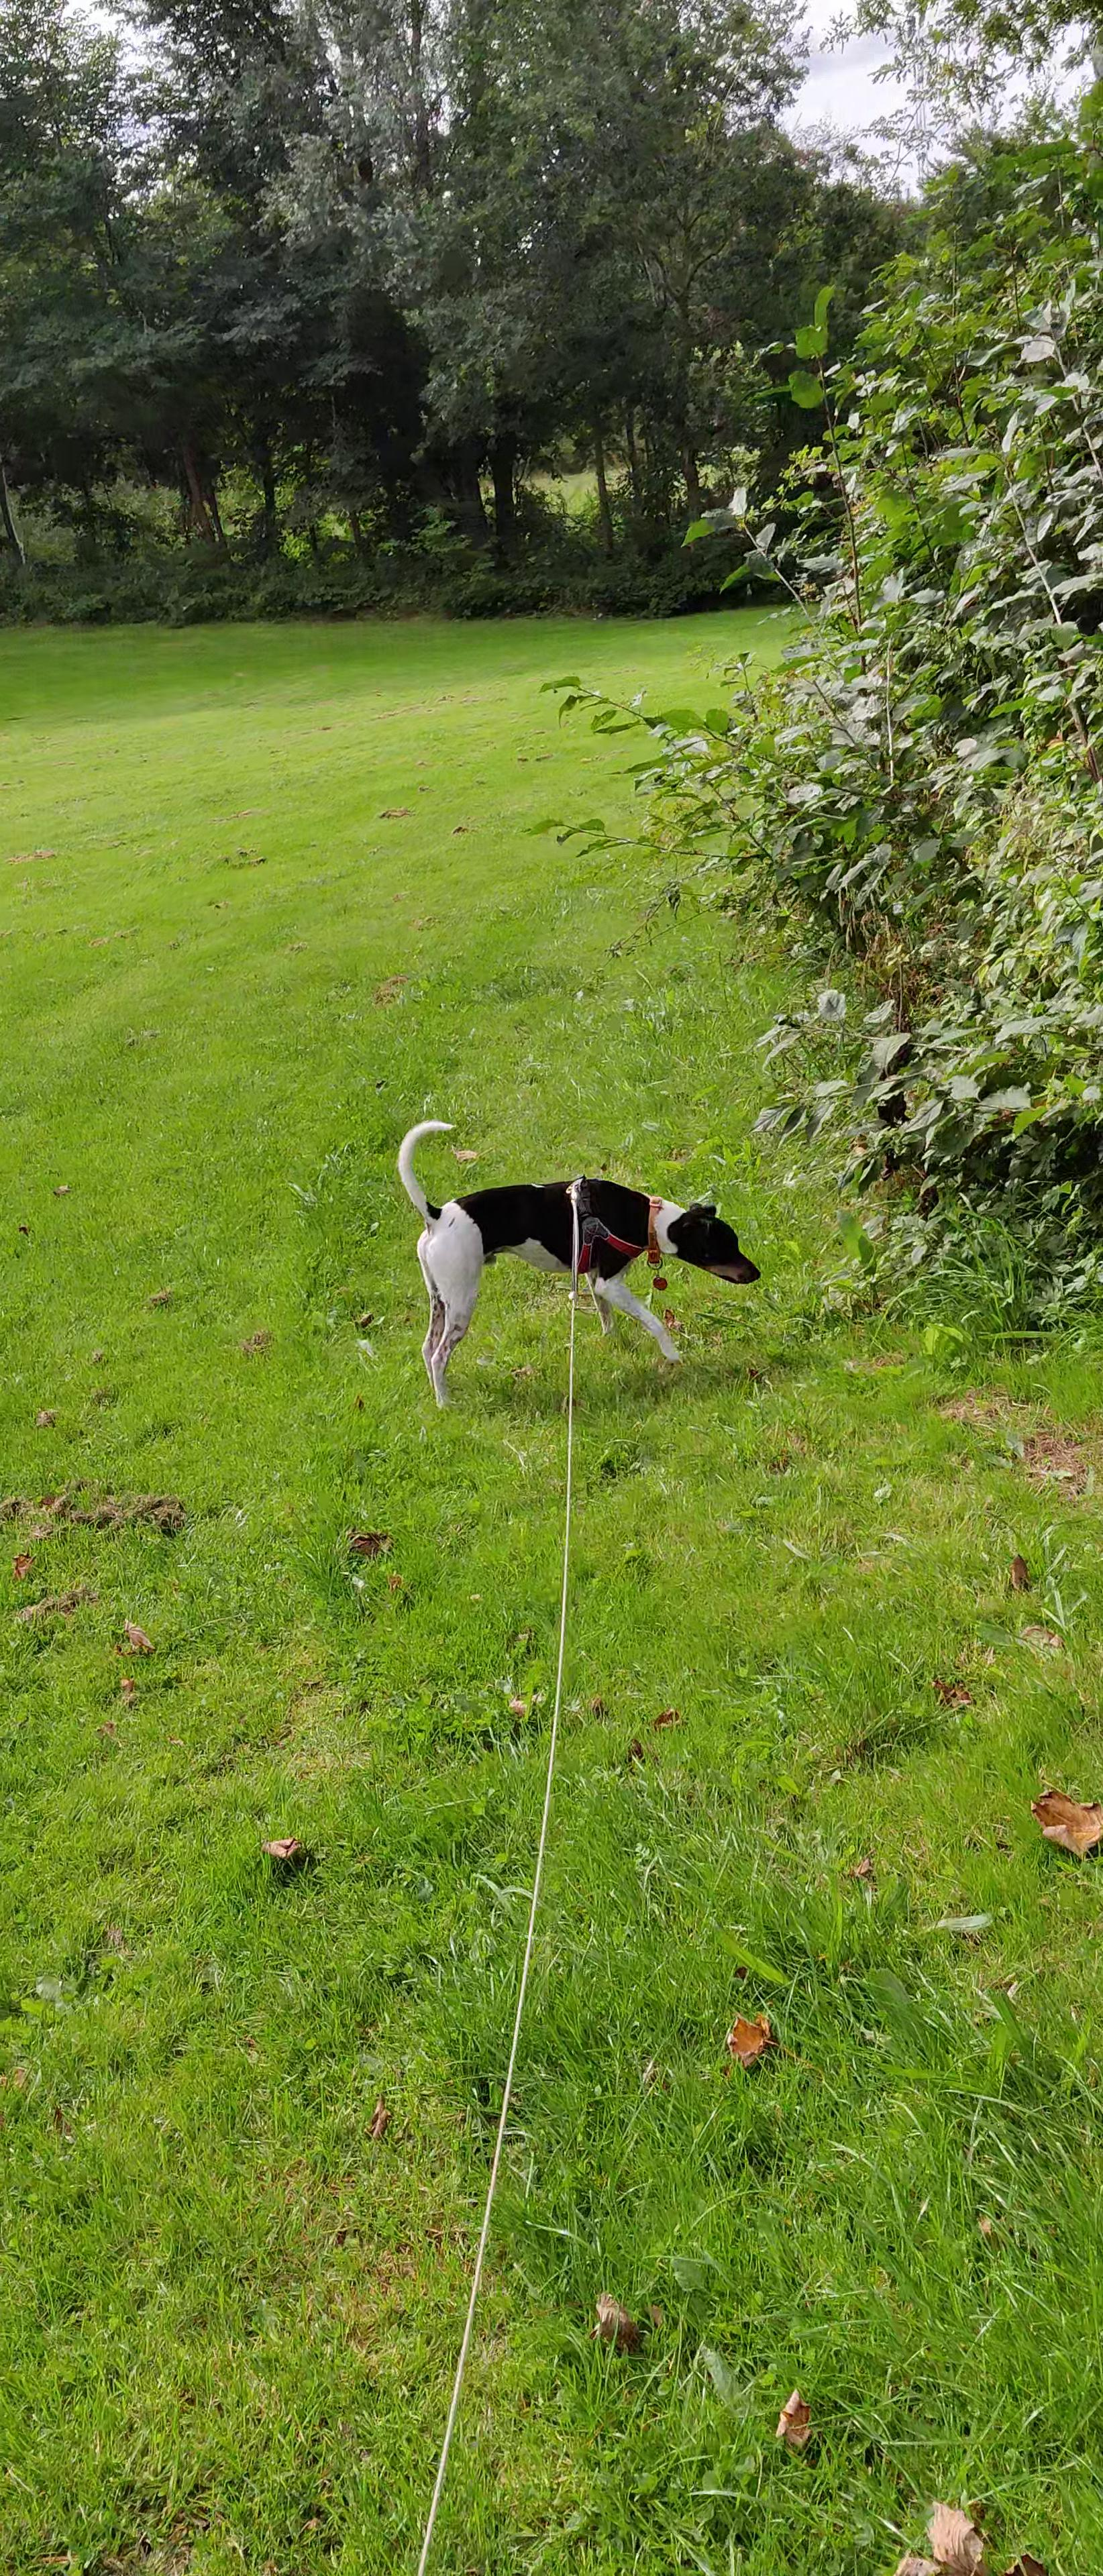Dog: (396, 1114, 763, 1406)
